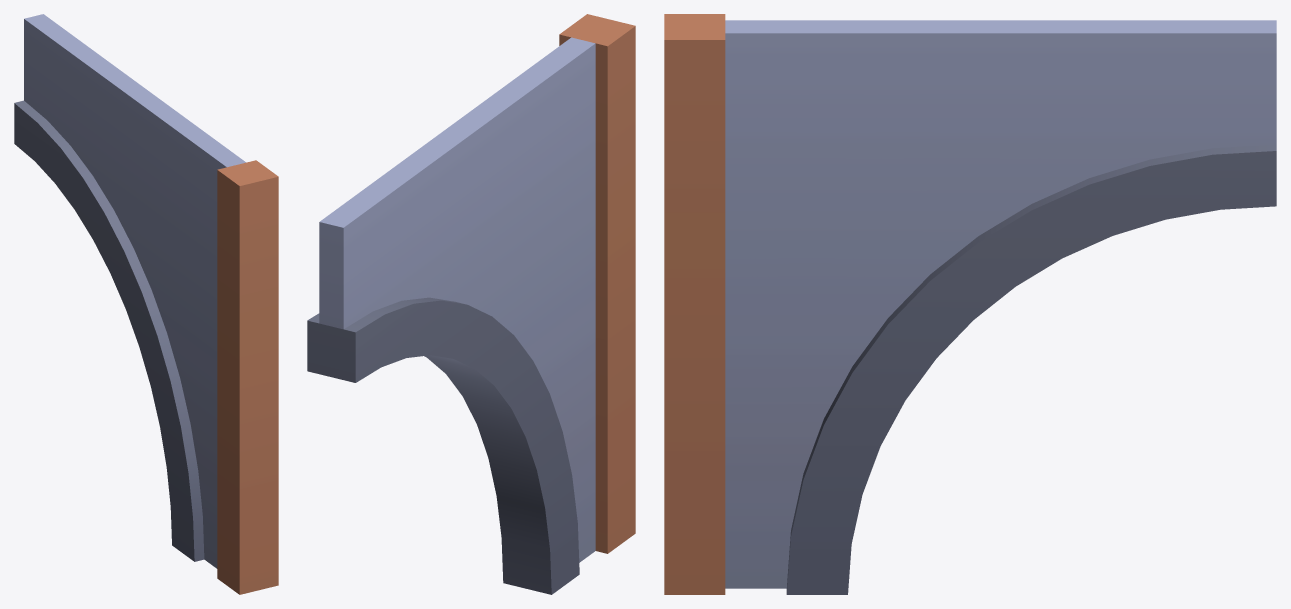
Rendered from wall-arch-top.glb.
3 renders of one model, left to right at view 1: azimuth 30°, elevation 25°; view 2: azimuth 150°, elevation 25°; view 3: azimuth 270°, elevation 25°, orthographic. The views are drawn at different scales.
Parts seen in each view (by area): view 1: wall-arch-top; view 2: wall-arch-top; view 3: wall-arch-top.
Boxes of the visible parts, x1,y1,x2,y2 form: wall-arch-top: (14, 14, 278, 594); wall-arch-top: (307, 14, 635, 594); wall-arch-top: (664, 14, 1276, 594).
Bounding box in the file's own units: 0.1 × 1 × 1.
Materials: 1 (1 with a texture image).
